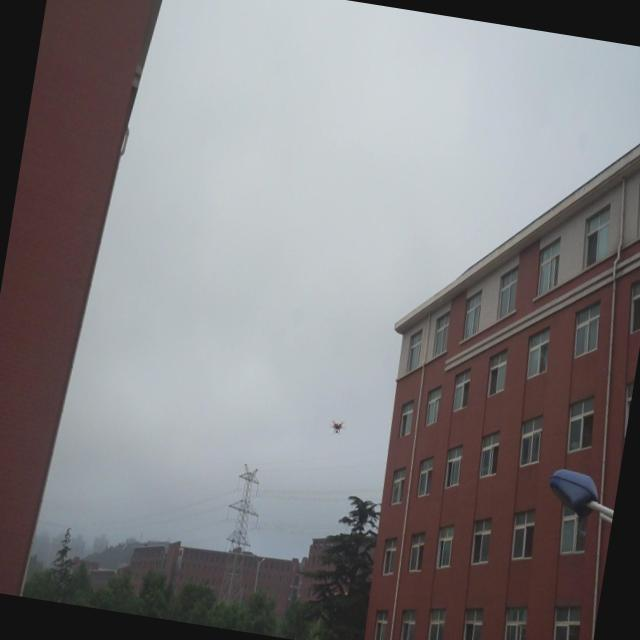drone: (328, 415, 348, 440)
